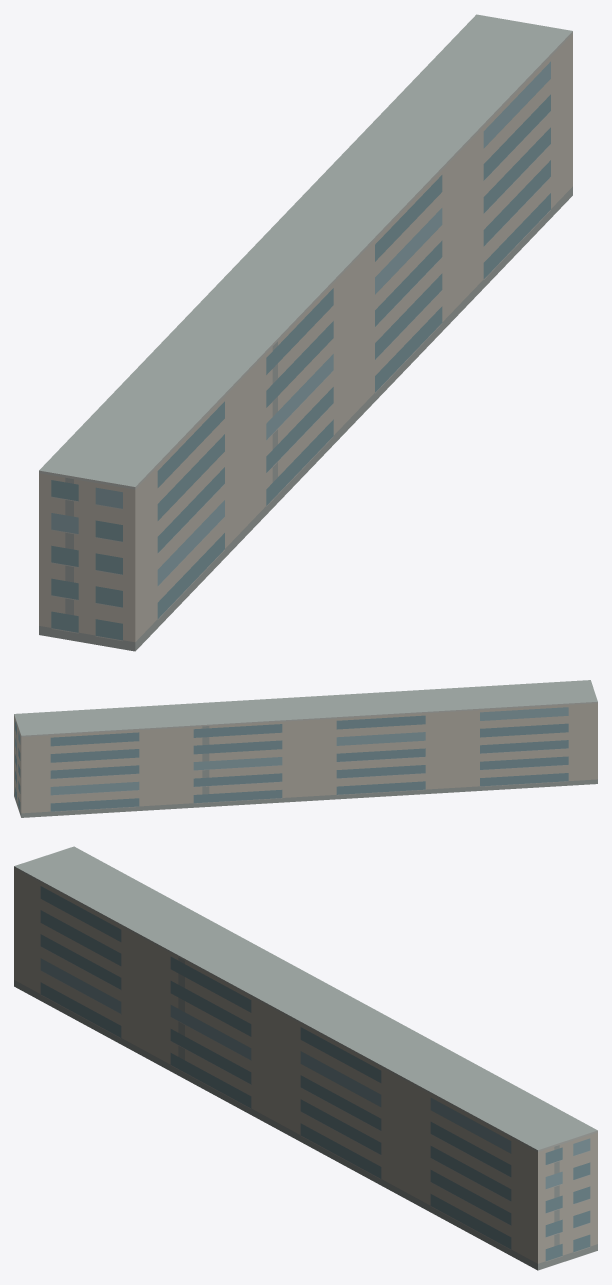
File: residential-dc90a539-2bda-41b6-8e83-d202a3717937.glb
3 views of the same model, one above another, from view 1: azimuth 30°, elevation 25°; view 2: azimuth 150°, elevation 25°; view 3: azimuth 270°, elevation 25° (orthographic). The views are drawn at different scales.
Visible parts, largest first — view 1: residential-dc90a539-2bda-41b6-8e83-d202a3717937.tmp; view 2: residential-dc90a539-2bda-41b6-8e83-d202a3717937.tmp; view 3: residential-dc90a539-2bda-41b6-8e83-d202a3717937.tmp.
Boxes of the visible parts, <box> form: residential-dc90a539-2bda-41b6-8e83-d202a3717937.tmp: <box>39,14,572,651</box>; residential-dc90a539-2bda-41b6-8e83-d202a3717937.tmp: <box>14,680,597,817</box>; residential-dc90a539-2bda-41b6-8e83-d202a3717937.tmp: <box>14,846,597,1270</box>.
Size of the model in its own units: 82.61 by 15.25 by 67.09.
